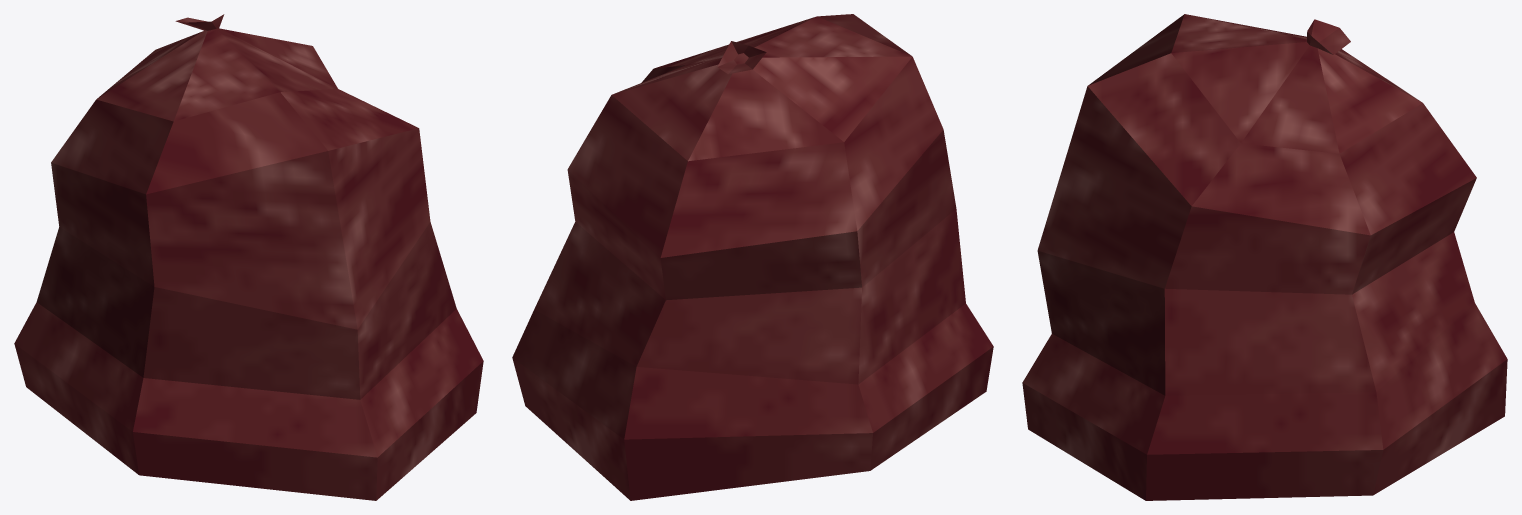
Rendered from Urban_Trashbag1Red_Model.fbx.
3 renders of one model, left to right at view 1: azimuth 30°, elevation 25°; view 2: azimuth 150°, elevation 25°; view 3: azimuth 270°, elevation 25°, orthographic. The views are drawn at different scales.
Visible parts, largest first — view 1: Urban_Trashbag1Red_Mesh; view 2: Urban_Trashbag1Red_Mesh; view 3: Urban_Trashbag1Red_Mesh.
Boxes of the visible parts, x1,y1,x2,y2 form: Urban_Trashbag1Red_Mesh: (14,14,483,500); Urban_Trashbag1Red_Mesh: (512,14,993,500); Urban_Trashbag1Red_Mesh: (1022,14,1507,500).
Bounding box in the file's own units: 0.7709 × 0.8094 × 0.9171.
